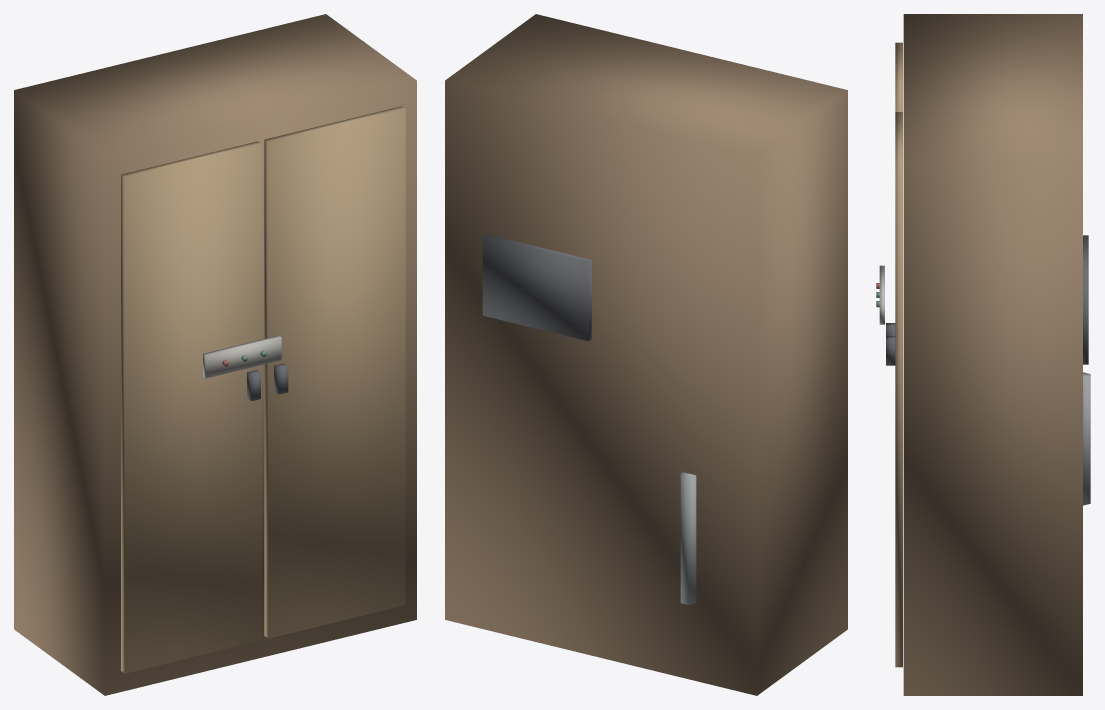
File: wardrobe__service.glb
The picture shows the model from 3 angles, left to right: view 1: azimuth 30°, elevation 25°; view 2: azimuth 150°, elevation 25°; view 3: azimuth 270°, elevation 25°; orthographic projection.
Visible parts, largest first — view 1: world; view 2: world; view 3: world.
Boxes of the visible parts, bbox=[...] form: world: bbox=[14, 14, 416, 695]; world: bbox=[445, 14, 847, 695]; world: bbox=[876, 14, 1090, 695].
Size of the model in its own units: 1.15 by 1.9 by 0.6934.
